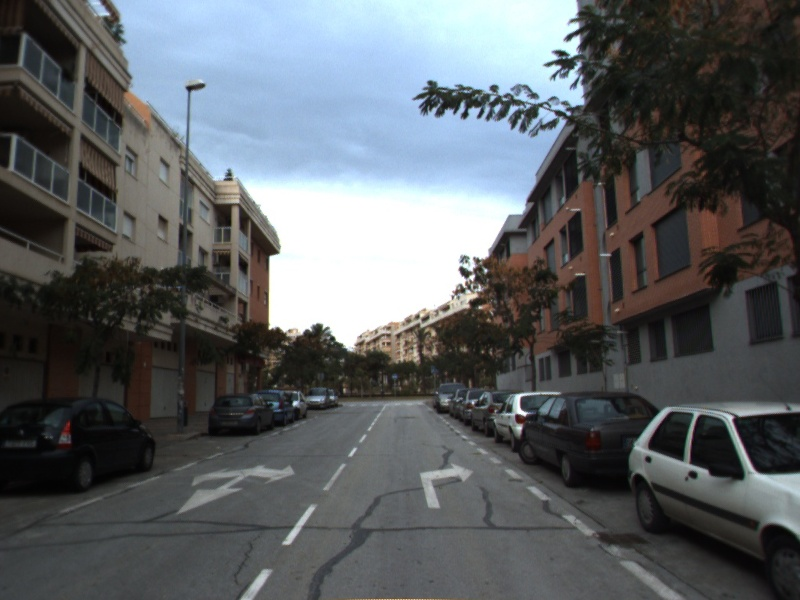RIGHT: (418, 461, 476, 510)
